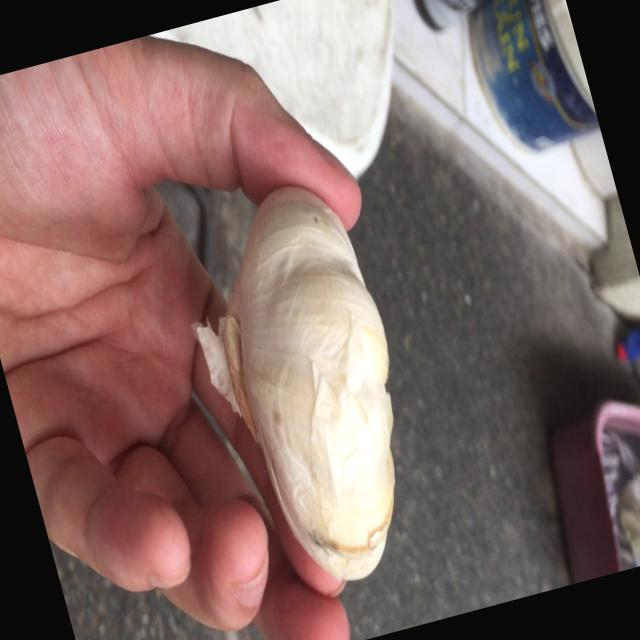bawang: (162, 164, 450, 612)
